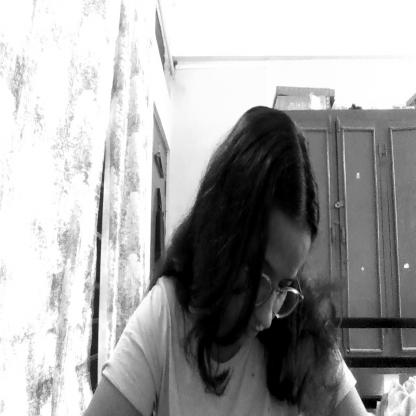Distracted: (233, 208, 312, 361)
